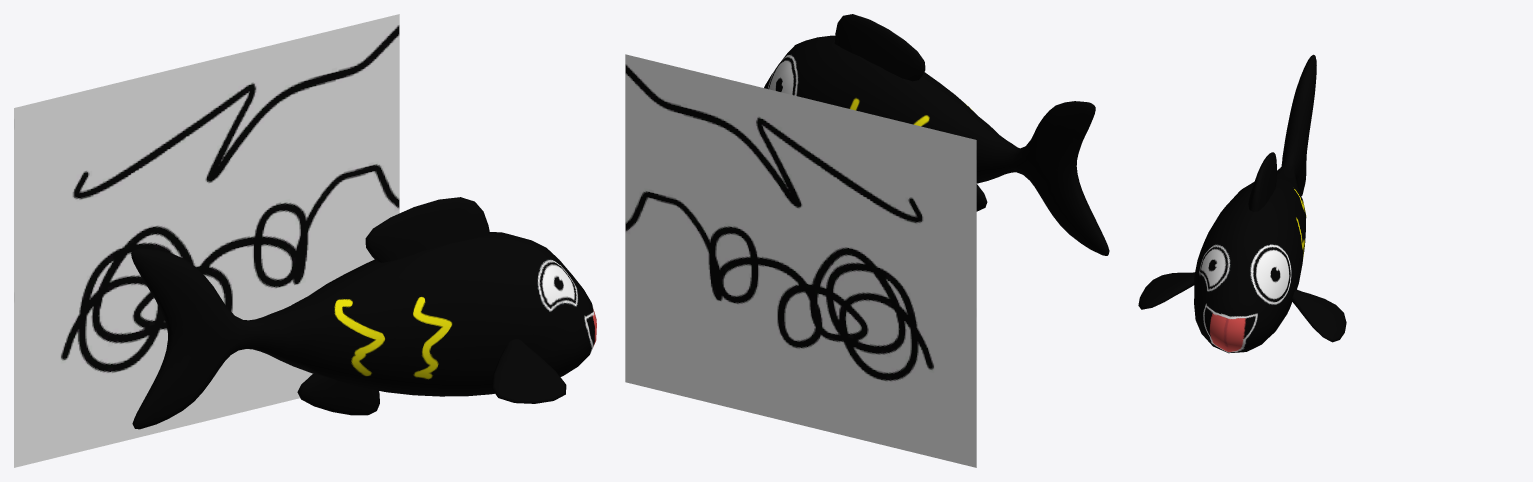
File: fush2.fbx
3 views of the same model, side by side, from view 1: azimuth 30°, elevation 25°; view 2: azimuth 150°, elevation 25°; view 3: azimuth 270°, elevation 25° (orthographic). The views are drawn at different scales.
Parts seen in each view (by area): view 1: root (×2); view 2: root (×2); view 3: root.
Part boxes in pixels (x1=…): root (×2): x1=14, y1=14, x2=596, y2=467; root (×2): x1=625, y1=14, x2=1109, y2=467; root: x1=1138, y1=54, x2=1346, y2=353.
Bounding box in the file's own units: 0.3229 × 0.264 × 0.3052.
2 materials, 2 textured.
